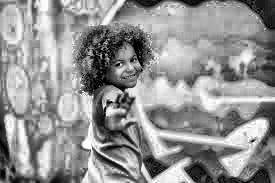happy: (94, 33, 157, 104)
